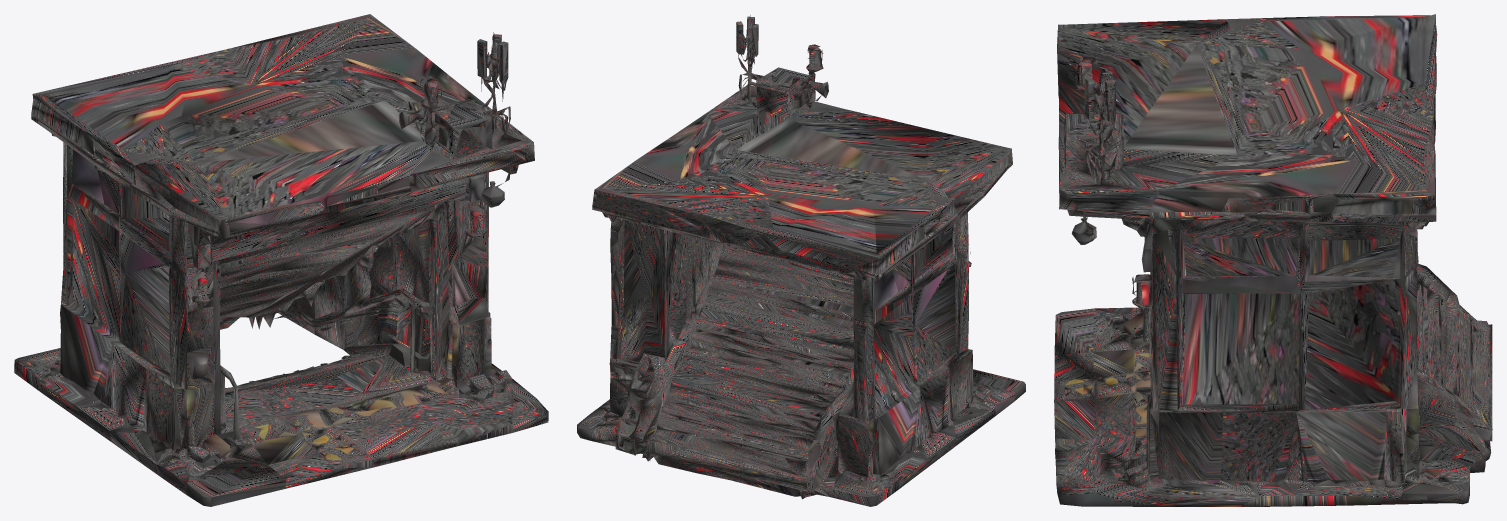
Rendered from subway-entrance.glb.
3 views of the same model, side by side, from view 1: azimuth 30°, elevation 25°; view 2: azimuth 150°, elevation 25°; view 3: azimuth 270°, elevation 25° (orthographic). The views are drawn at different scales.
Visible parts, largest first — view 1: output_unwrapped; view 2: output_unwrapped; view 3: output_unwrapped.
Part boxes in pixels (box(x1,y1,x2,y2)): output_unwrapped: box(14, 14, 548, 506); output_unwrapped: box(577, 15, 1025, 506); output_unwrapped: box(1054, 14, 1492, 506).
Size of the model in its own units: 1.85 by 1.9 by 1.8.
1 material, 1 textured.
